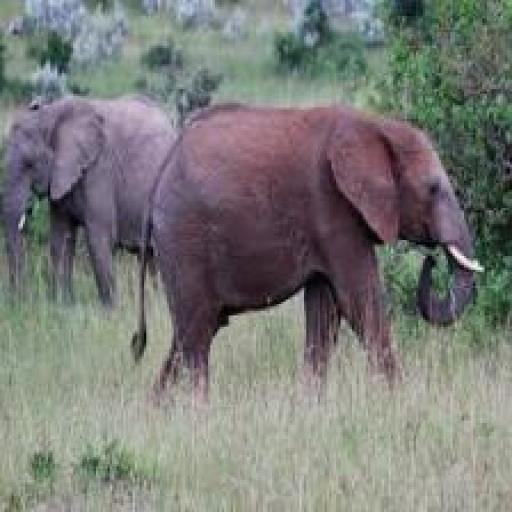Elephant: (142, 105, 474, 369), (0, 92, 174, 274)
